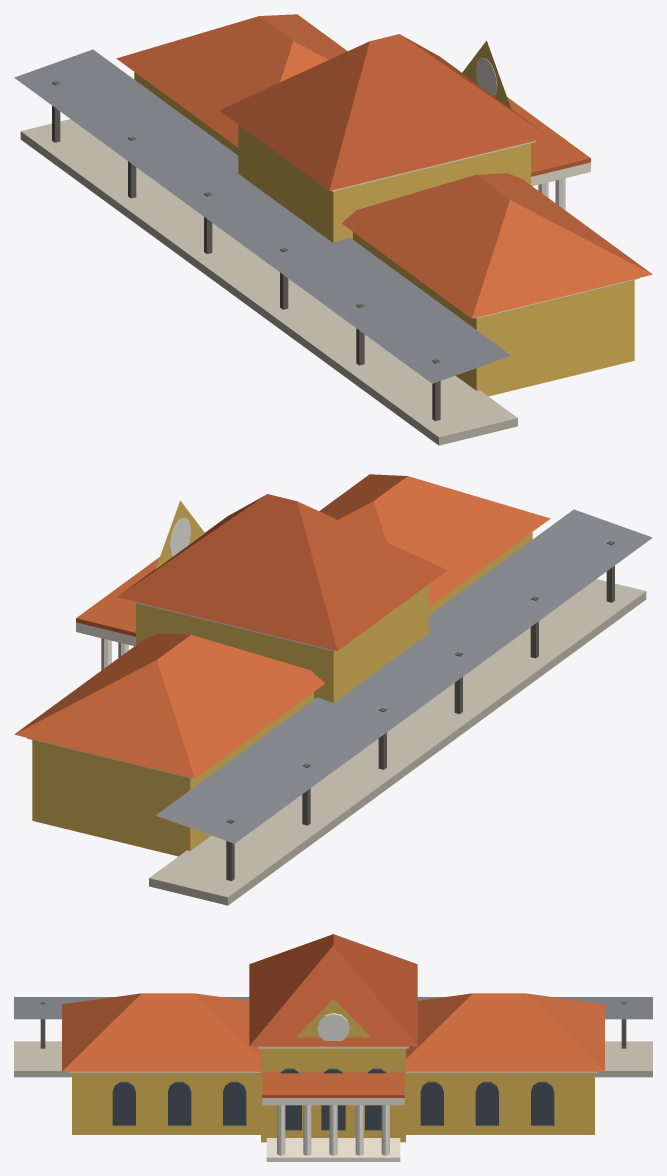
File: station.glb
3 views of the same model, one above another, from view 1: azimuth 30°, elevation 25°; view 2: azimuth 150°, elevation 25°; view 3: azimuth 270°, elevation 25° (orthographic). The views are drawn at different scales.
Parts seen in each view (by area): view 1: station; view 2: station; view 3: station.
Boxes of the visible parts, bbox=[...] form: station: bbox=[14, 14, 652, 445]; station: bbox=[14, 474, 652, 905]; station: bbox=[14, 934, 652, 1161].
Size of the model in its own units: 4.88 by 3.15 by 11.
